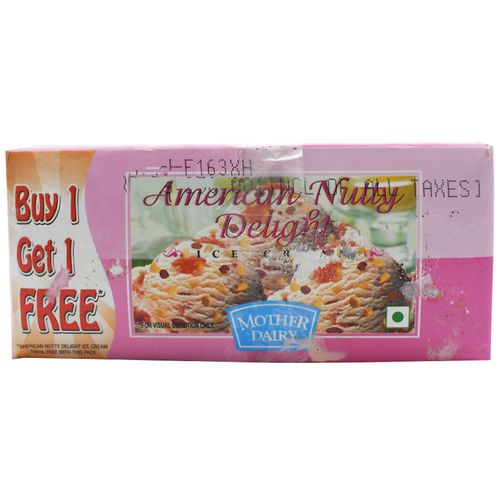Mother_Dairy: (223, 299, 328, 356)
